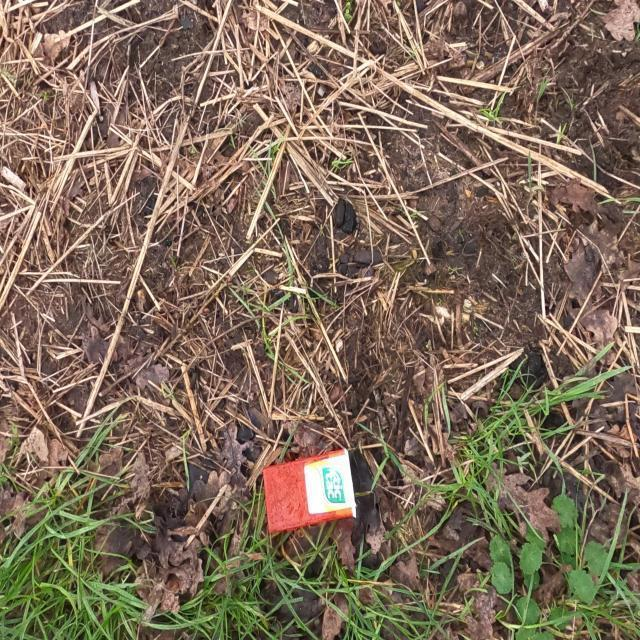Plastic: (262, 446, 358, 534)
